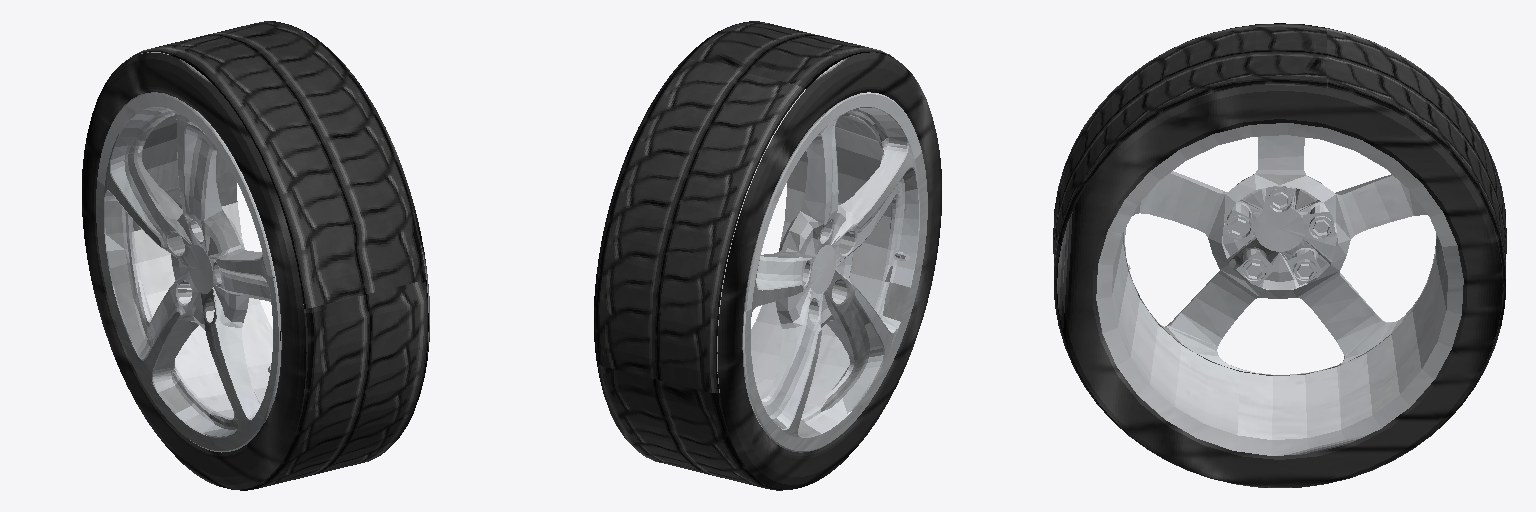
3 renders of one model, left to right at view 1: azimuth 30°, elevation 25°; view 2: azimuth 150°, elevation 25°; view 3: azimuth 270°, elevation 25°, orthographic.
Visible parts, largest first — view 1: llantaDelanteraIzquierda_llanta; view 2: llantaDelanteraIzquierda_llanta; view 3: llantaDelanteraIzquierda_llanta.
Part boxes in pixels (left/top/right/bottom): llantaDelanteraIzquierda_llanta: left=82, top=21, right=429, bottom=490; llantaDelanteraIzquierda_llanta: left=594, top=21, right=941, bottom=490; llantaDelanteraIzquierda_llanta: left=1053, top=23, right=1506, bottom=487.
Bounding box in the file's own units: 0.235 × 0.6719 × 0.6719.
1 materials, 1 textured.